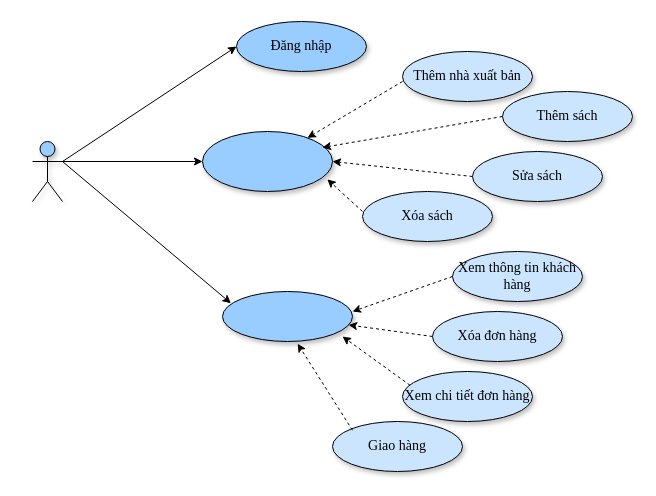
Some shapes in this 656 by 496 pixel diagram are drawn without their labels. The centre of each missing label's shape, as x and y in pixels:
ADMIN: [48,172]
Quản lý kho hàng: [268,162]
Quản lý đơn hàng: [288,317]
